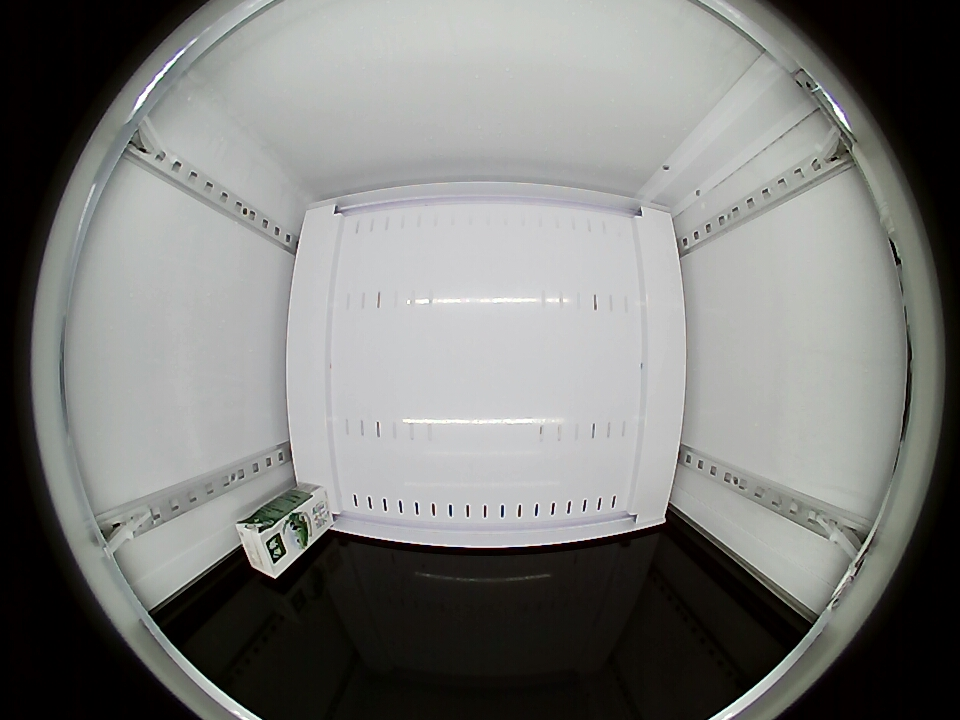jindian: (236, 508, 298, 578)
